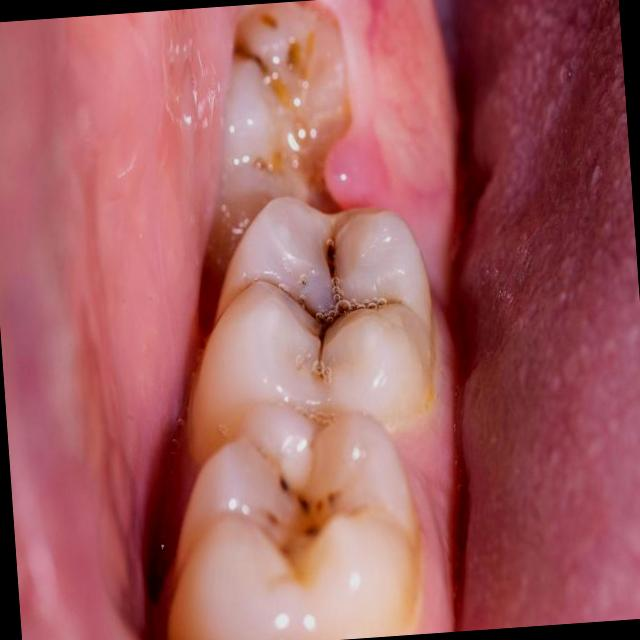caries: (189, 188, 442, 440), (161, 411, 428, 640), (199, 0, 358, 207)
